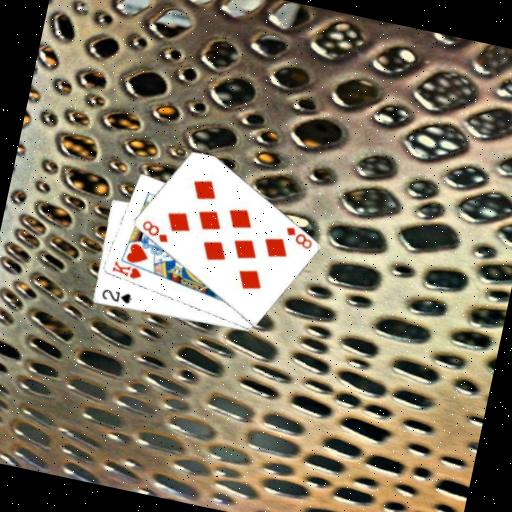2S: (97, 285, 133, 307)
8D: (136, 216, 173, 246), (279, 222, 316, 251)
KH: (108, 257, 145, 282)
